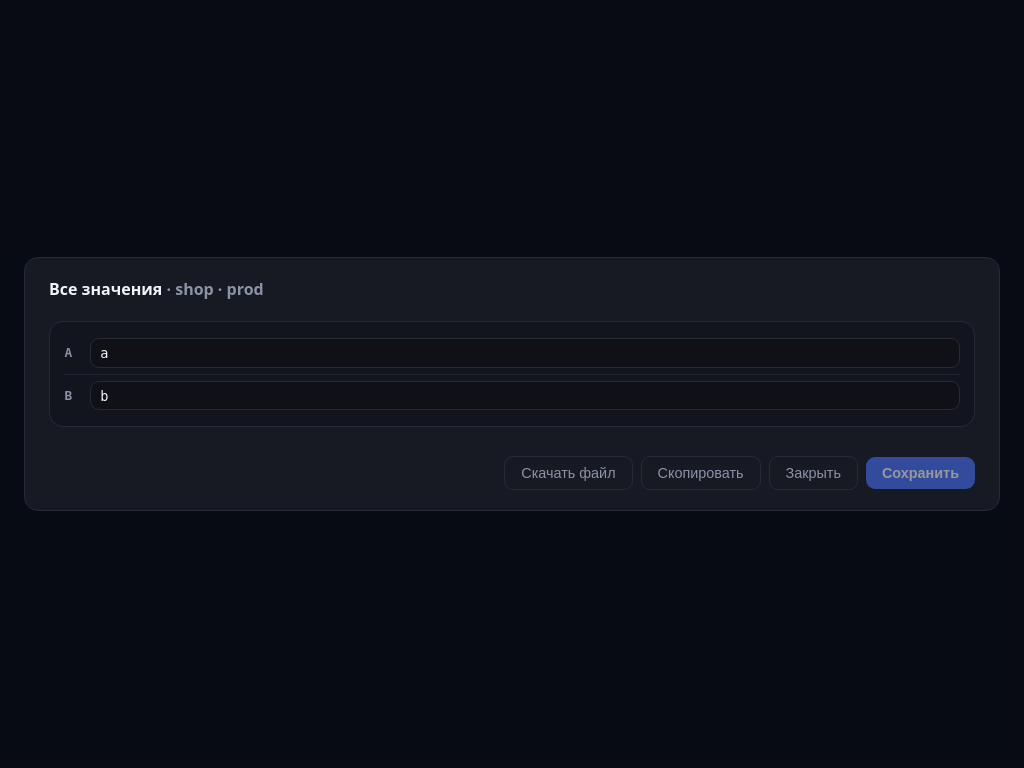
Scenario: окно всех значений › чужая правка в одном ключе не мешает остальным, перезапись осознанная
The image size is (1024, 768).
Replace the text in the 1st field with "a-mine": (525, 353) left=90, top=338, right=960, bottom=368
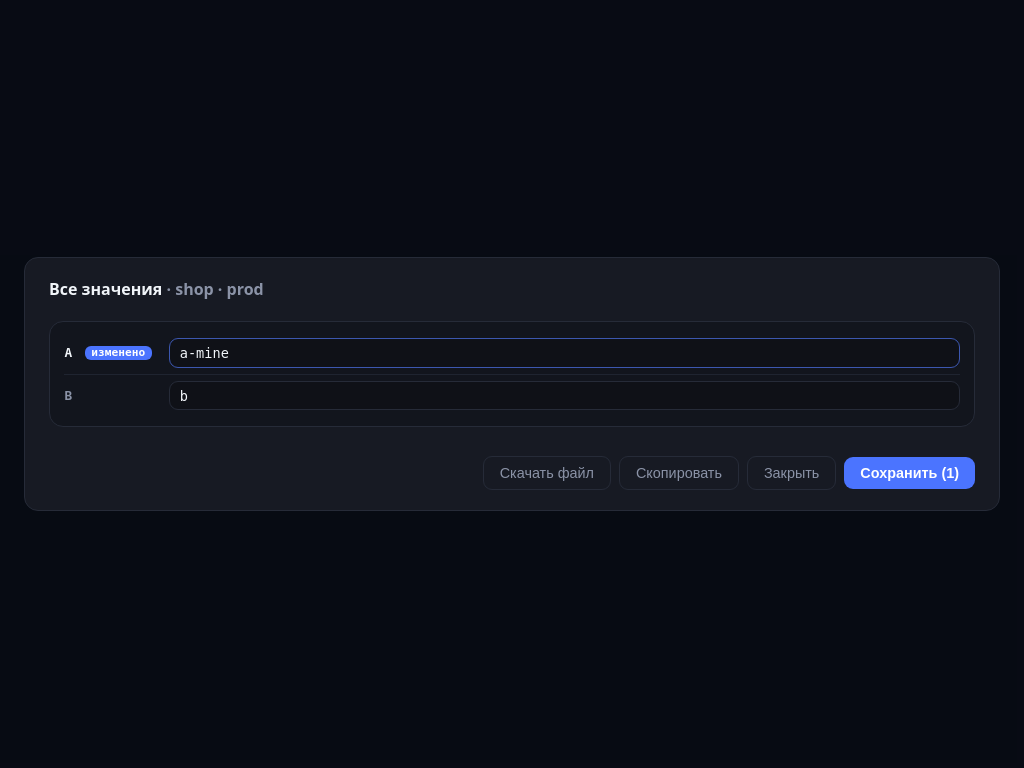
Replace the text in the 2nd field with "b-mine": (564, 396) left=169, top=381, right=960, bottom=410
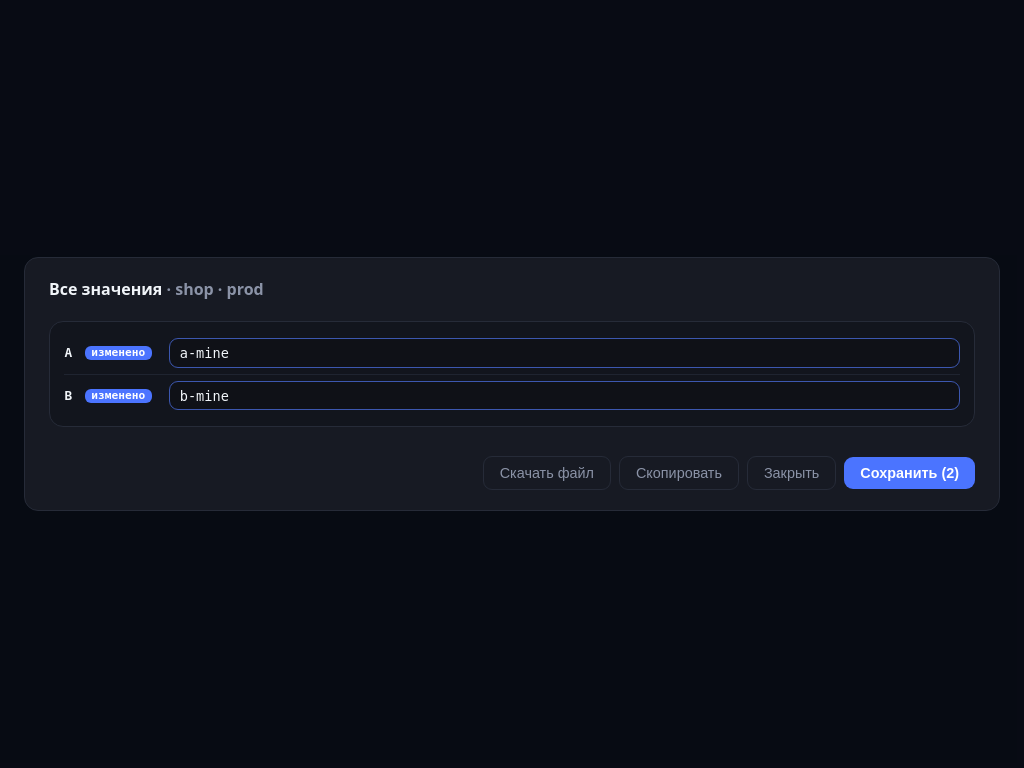
Click the button "Сохранить (2)": (910, 473) left=844, top=457, right=975, bottom=489
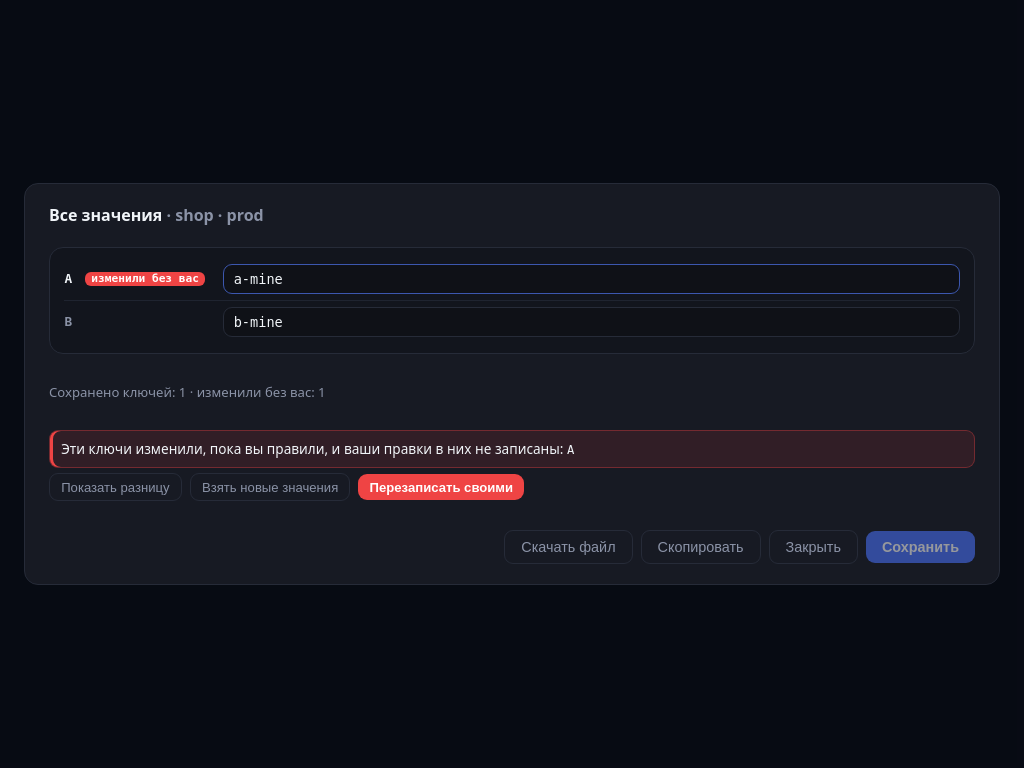
Expected: the text "Эти ключи изменили, пока вы правили" is shown, left=61, top=439, right=564, bottom=458
Click the button "Показать разницу": (115, 487) left=49, top=473, right=182, bottom=502
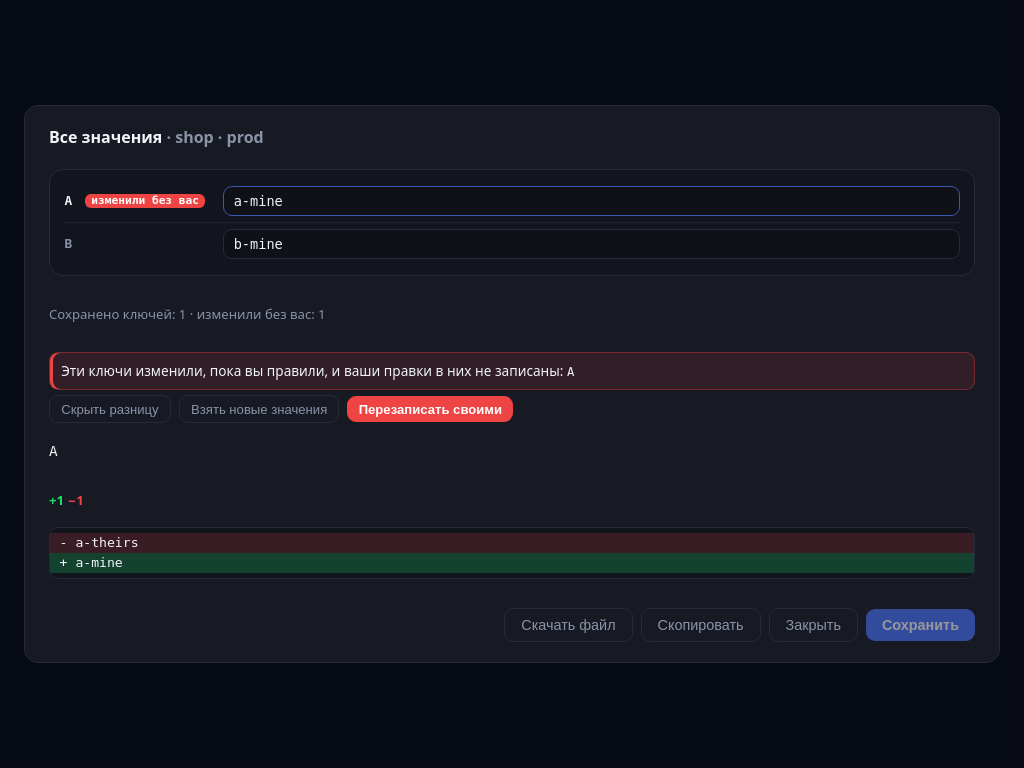
Expected: the text "- a-theirs" is shown, left=50, top=533, right=974, bottom=553
Click the button "Перезаписать своими": (430, 409) left=347, top=396, right=513, bottom=422
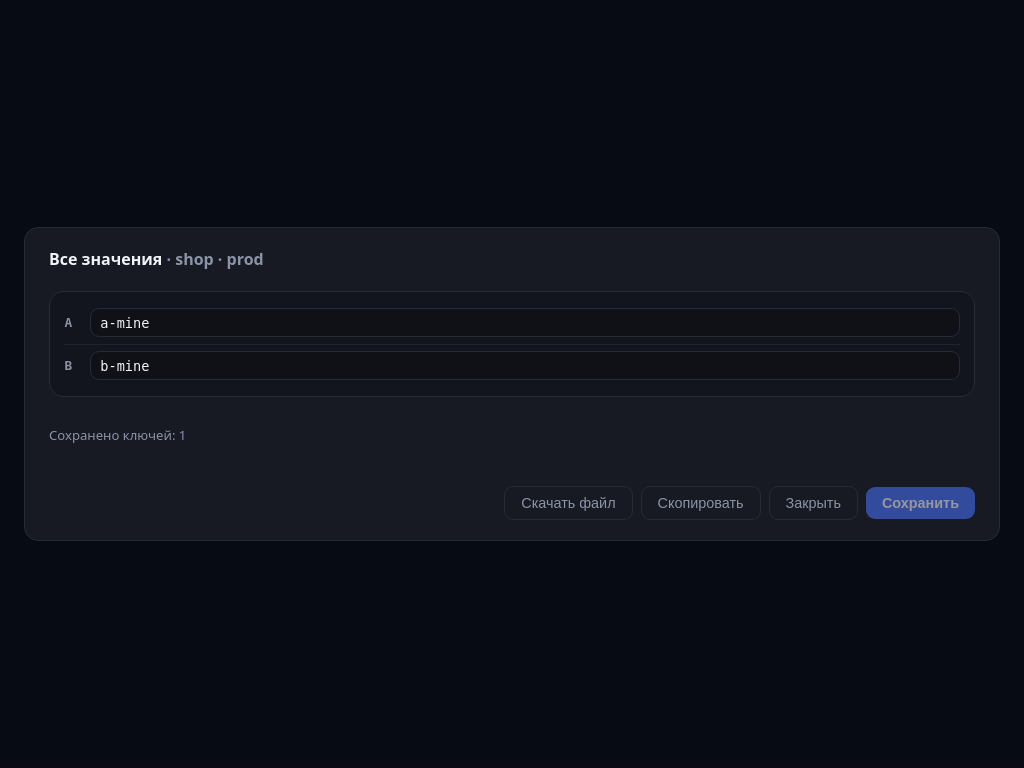
Expected: the text "Эти ключи изменили, пока вы правили" is gone
